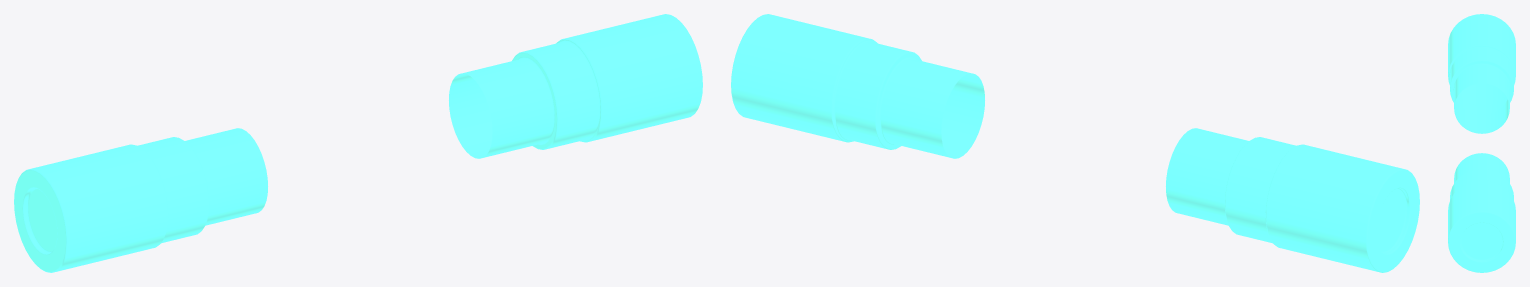
The model's file is hfine.gltf.
3 views of the same model, side by side, from view 1: azimuth 30°, elevation 25°; view 2: azimuth 150°, elevation 25°; view 3: azimuth 270°, elevation 25° (orthographic). The views are drawn at different scales.
Parts seen in each view (by area): view 1: focusknob 2; view 2: focusknob 2; view 3: focusknob 2.
Part boxes in pixels (left/top/right/bottom): focusknob 2: left=14, top=14, right=702, bottom=272; focusknob 2: left=731, top=14, right=1419, bottom=272; focusknob 2: left=1448, top=14, right=1515, bottom=272.
Size of the model in its own units: 0.1108 by 0.0161 by 0.0161.
